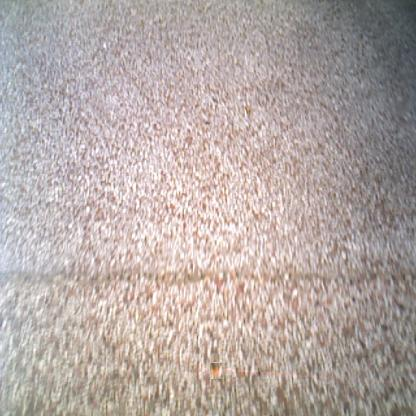dirty: (210, 362, 222, 379)
